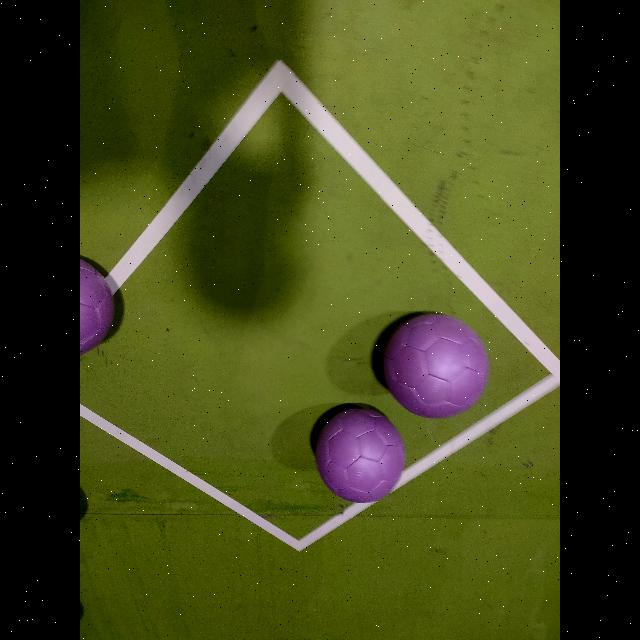P: (383, 315, 489, 419), (316, 408, 406, 504), (80, 260, 114, 356)
